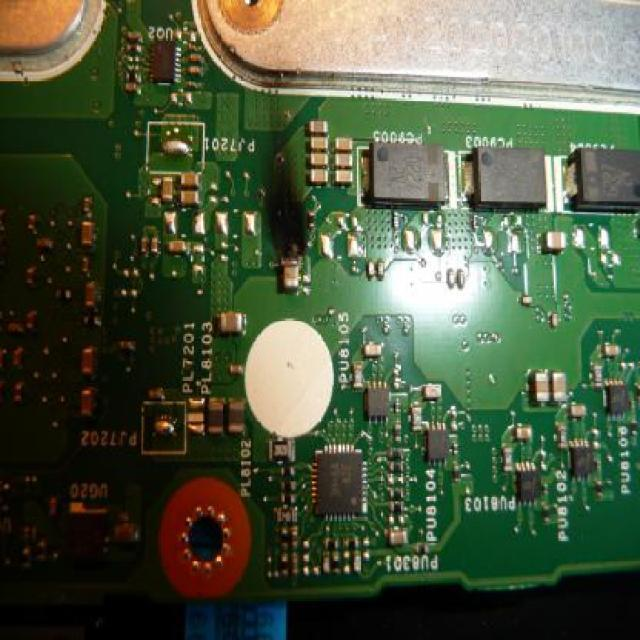Burn: (250, 117, 316, 280)
